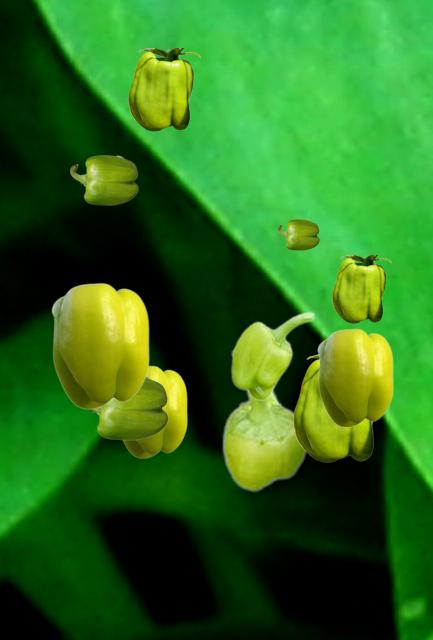bell_pepper: (221, 346, 308, 491), (51, 282, 148, 408), (293, 354, 374, 461), (230, 311, 314, 400), (317, 328, 392, 426), (122, 365, 186, 457), (128, 48, 199, 130), (90, 376, 167, 439), (332, 255, 390, 322), (70, 155, 137, 204), (277, 219, 318, 249)
